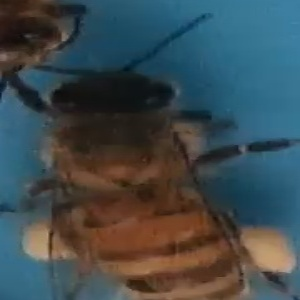bee: (43, 67, 295, 300)
